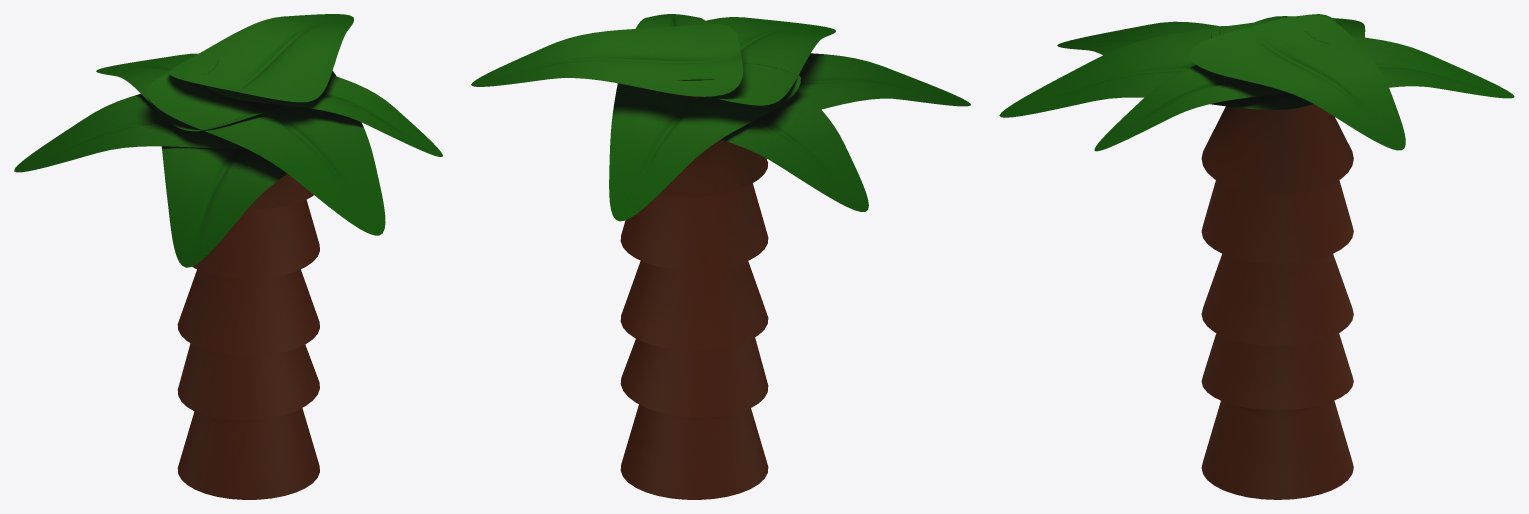
The model's file is tree.glb.
3 views of the same model, side by side, from view 1: azimuth 30°, elevation 25°; view 2: azimuth 150°, elevation 25°; view 3: azimuth 270°, elevation 25° (orthographic). The views are drawn at different scales.
Visible parts, largest first — view 1: beachTree; view 2: beachTree; view 3: beachTree.
Boxes of the visible parts, x1=… form: beachTree: x1=14, y1=14, x2=442, y2=499; beachTree: x1=471, y1=14, x2=970, y2=499; beachTree: x1=999, y1=14, x2=1514, y2=499.
Size of the model in its own units: 5.8 by 6.19 by 6.76.
2 materials, 2 textured.
